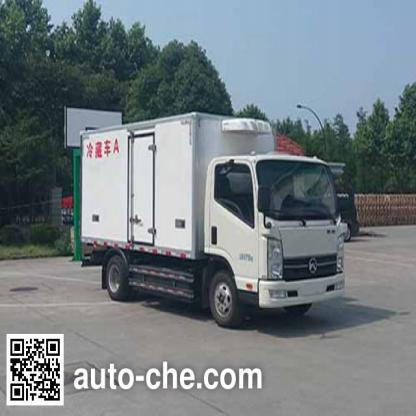normal-truck: (75, 114, 348, 324)
